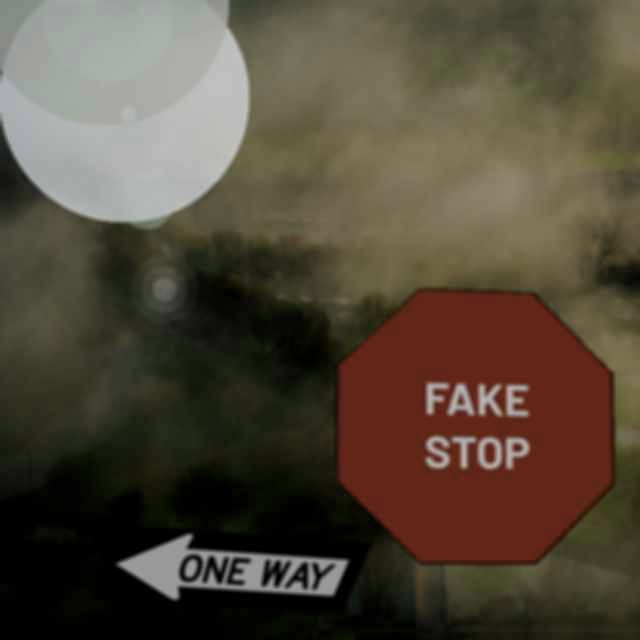FAKE_STOP: (335, 287, 615, 565)
ONE_WAY_ left: (93, 523, 373, 614)
